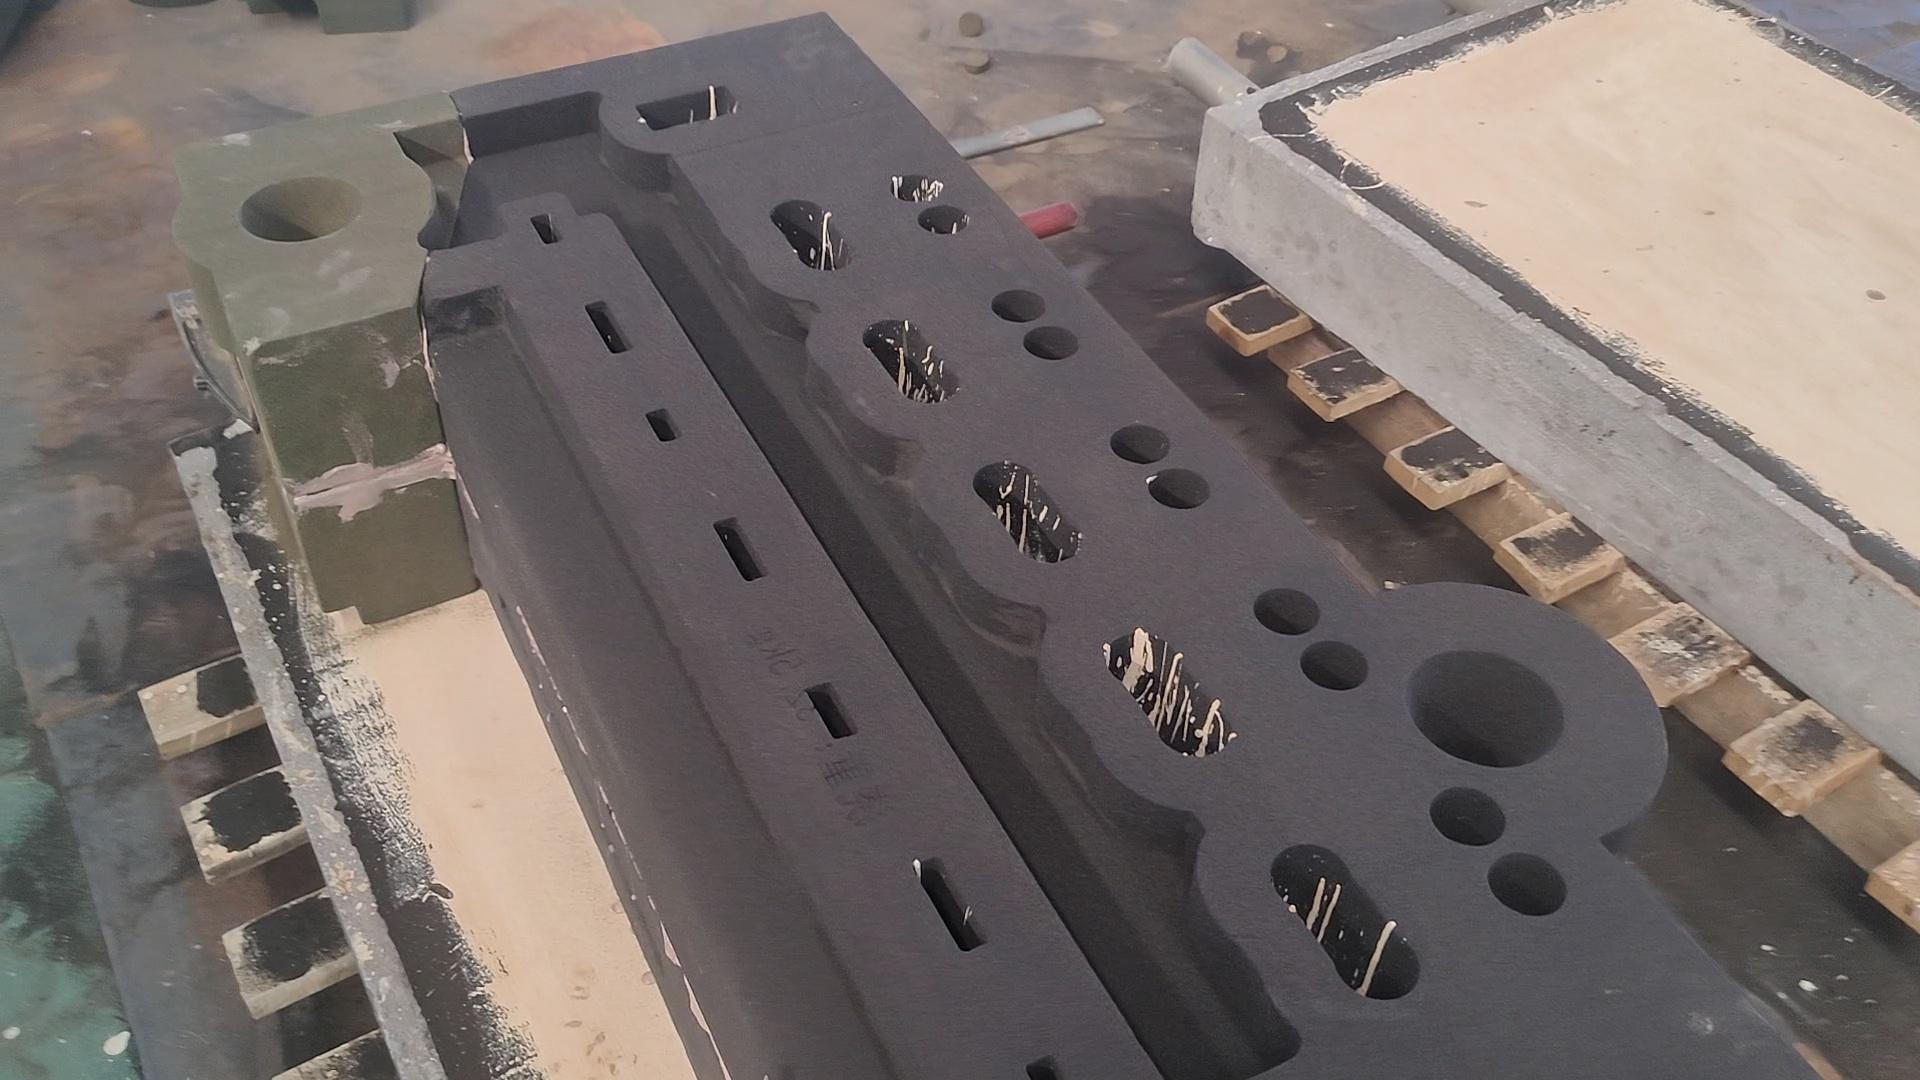pouring hole: (1406, 651, 1564, 767), (237, 177, 363, 241)
